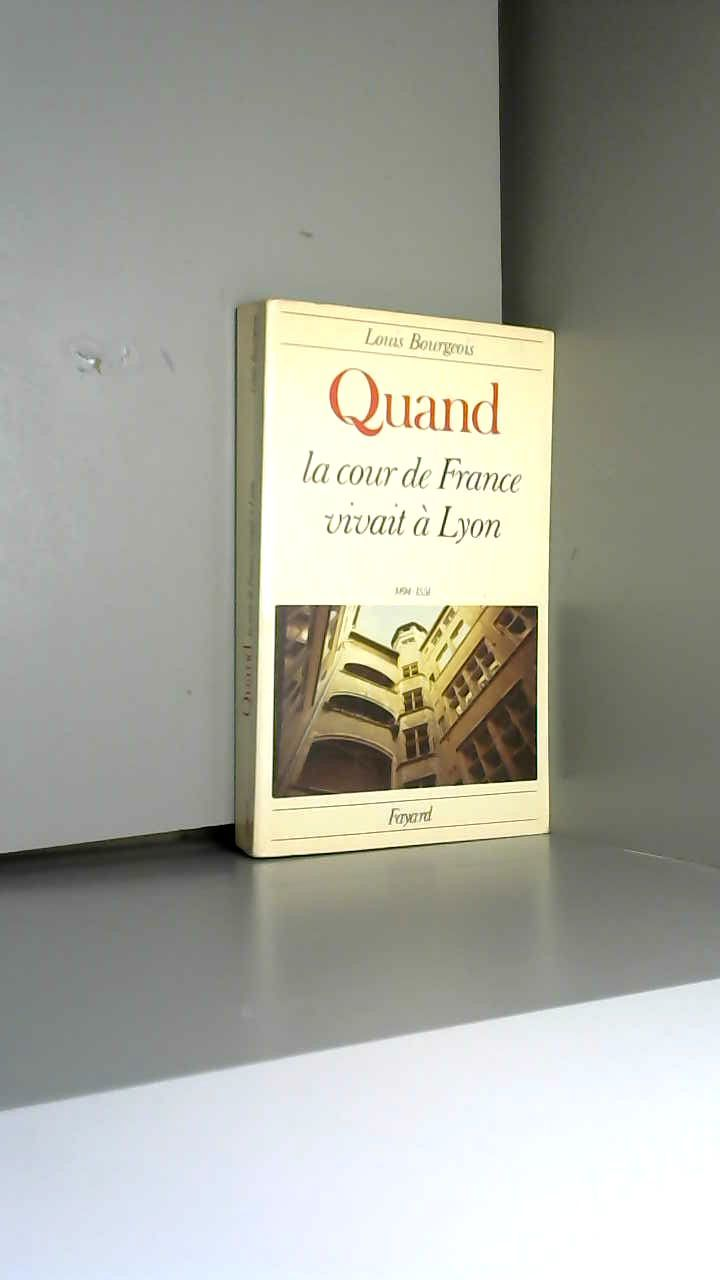book: (194, 262, 596, 908)
